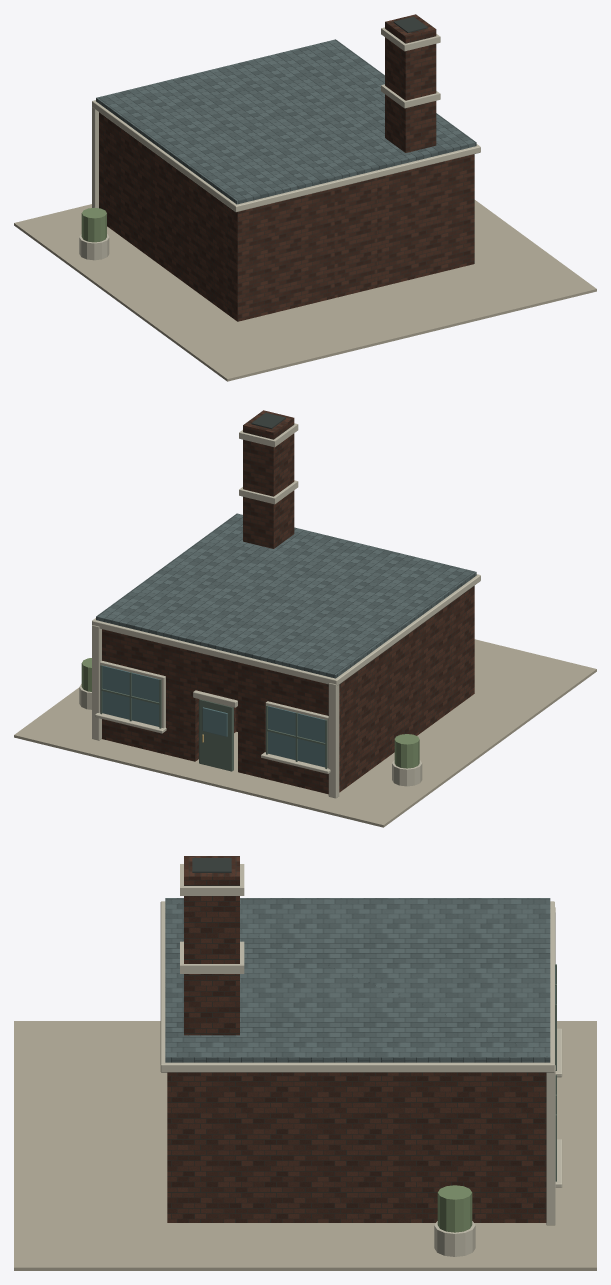
File: crematorium.glb
The picture shows the model from 3 angles, top to bottom: view 1: azimuth 30°, elevation 25°; view 2: azimuth 150°, elevation 25°; view 3: azimuth 270°, elevation 25°; orthographic projection. The views are drawn at different scales.
Visible parts, largest first — view 1: masonry wing, lot paving, slate flat roof, limestone roof cornice, clipped evergreen; view 2: masonry wing, slate flat roof, lot paving, limestone roof cornice, recessed glass, oak entry, clipped evergreen, sash stile, entry glass; view 3: lot paving, masonry wing, slate flat roof, limestone roof cornice, clipped evergreen, chimney dark mouth.
Boxes of the visible parts, x1=… form: masonry wing: x1=99, y1=14, x2=474, y2=321; lot paving: x1=14, y1=200, x2=596, y2=381; slate flat roof: x1=96, y1=39, x2=476, y2=204; limestone roof cornice: x1=79, y1=27, x2=480, y2=260; clipped evergreen: x1=81, y1=207, x2=106, y2=242; masonry wing: x1=102, y1=410, x2=474, y2=794; slate flat roof: x1=96, y1=513, x2=476, y2=678; lot paving: x1=14, y1=639, x2=596, y2=827; limestone roof cornice: x1=79, y1=423, x2=480, y2=798; recessed glass: x1=102, y1=665, x2=325, y2=767; oak entry: x1=199, y1=699, x2=233, y2=771; clipped evergreen: x1=81, y1=658, x2=419, y2=768; sash stile: x1=100, y1=664, x2=327, y2=768; entry glass: x1=202, y1=707, x2=227, y2=736; lot paving: x1=14, y1=1021, x2=596, y2=1270; masonry wing: x1=167, y1=856, x2=546, y2=1222; slate flat roof: x1=165, y1=898, x2=550, y2=1062; limestone roof cornice: x1=160, y1=864, x2=562, y2=1256; clipped evergreen: x1=437, y1=1185, x2=472, y2=1232; chimney dark mouth: x1=192, y1=858, x2=231, y2=872.
Size of the model in its own units: 15.6 by 9.75 by 15.6.
9 materials, 2 textured.
